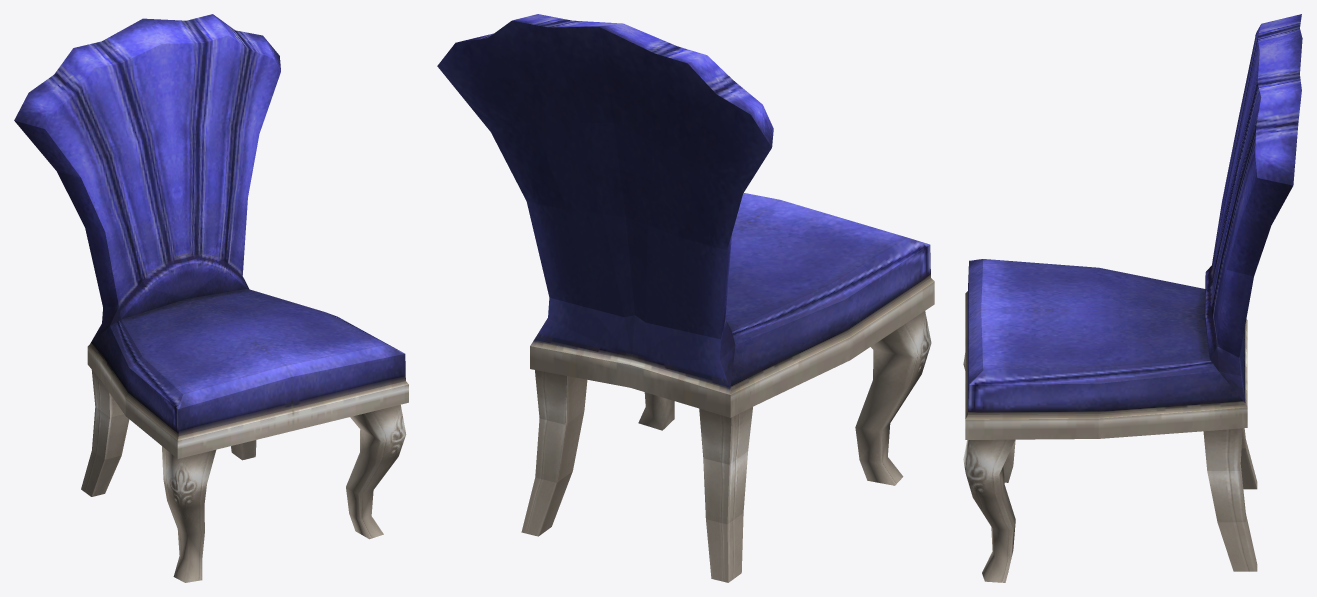
File: furni_0201112.FBX
3 renders of one model, left to right at view 1: azimuth 30°, elevation 25°; view 2: azimuth 150°, elevation 25°; view 3: azimuth 270°, elevation 25°, orthographic. The views are drawn at different scales.
Parts seen in each view (by area): view 1: furni_0201112; view 2: furni_0201112; view 3: furni_0201112.
Part boxes in pixels (x1,y1,x2,y2): furni_0201112: (14,14,408,582); furni_0201112: (437,14,934,582); furni_0201112: (963,14,1302,582).
Bounding box in the file's own units: 71.5 × 112 × 70.55.
1 material, 1 textured.
